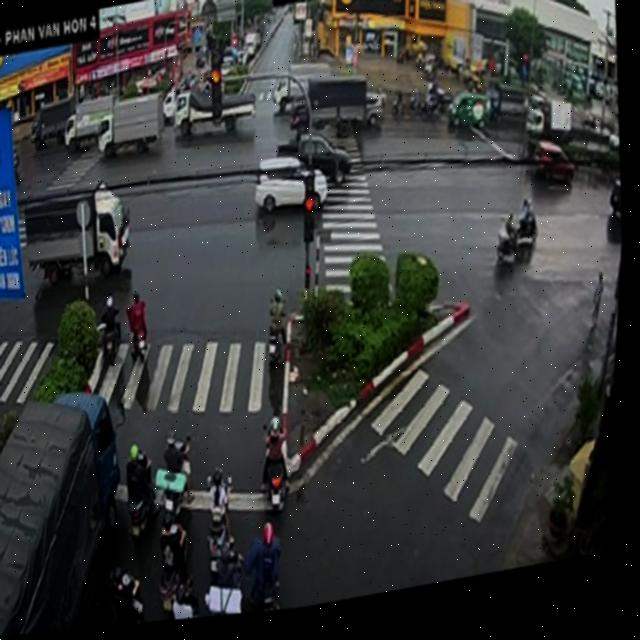Red: (206, 50, 229, 127), (301, 180, 323, 254)
